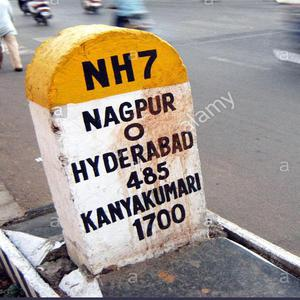kmstone: (17, 24, 219, 272)
